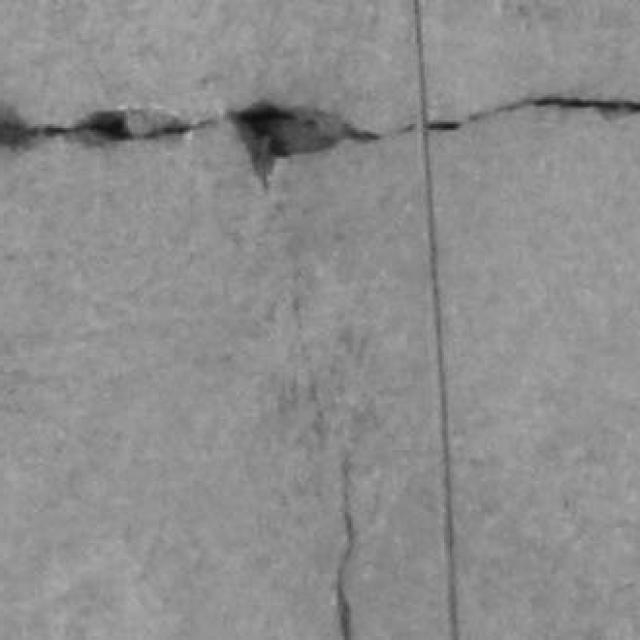crack: (0, 101, 415, 188), (0, 101, 384, 188), (228, 101, 379, 188), (0, 105, 220, 149), (428, 96, 639, 129), (335, 454, 355, 639)
